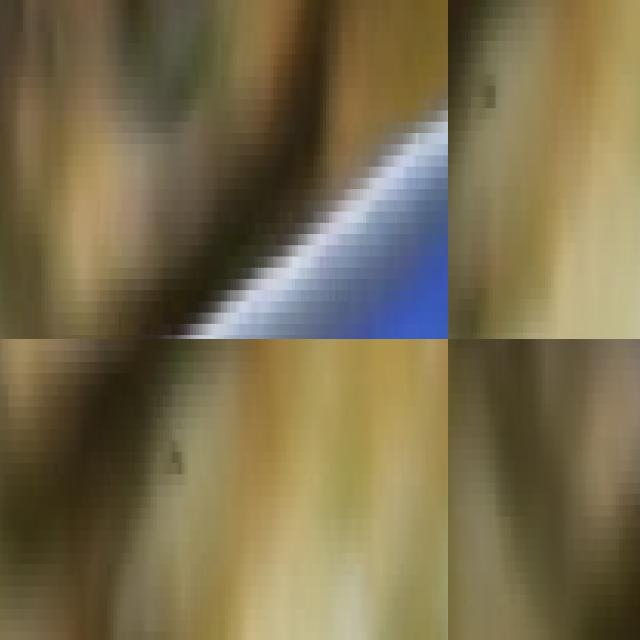fish: (0, 0, 448, 339), (0, 339, 197, 640)
